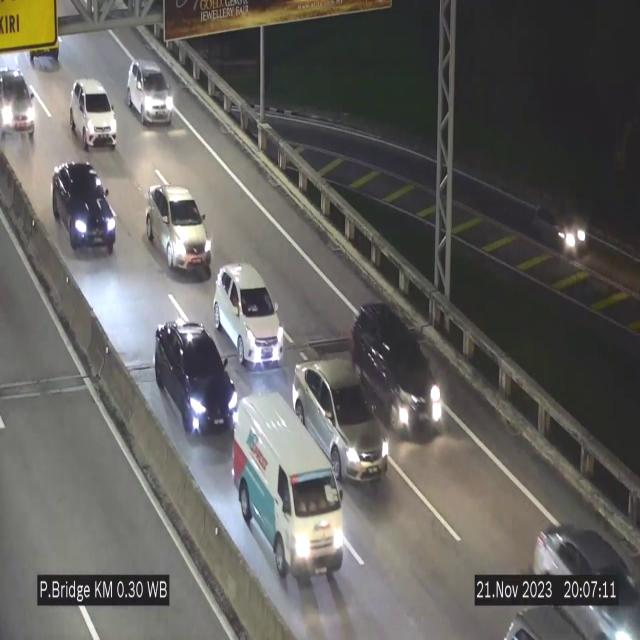Car: (234, 393, 344, 591), (525, 501, 640, 640), (348, 303, 440, 440), (292, 358, 388, 481), (154, 320, 238, 452), (213, 264, 284, 370), (53, 161, 116, 252), (146, 185, 210, 270), (529, 193, 591, 267), (0, 58, 48, 148), (70, 79, 118, 148), (127, 59, 173, 124)
